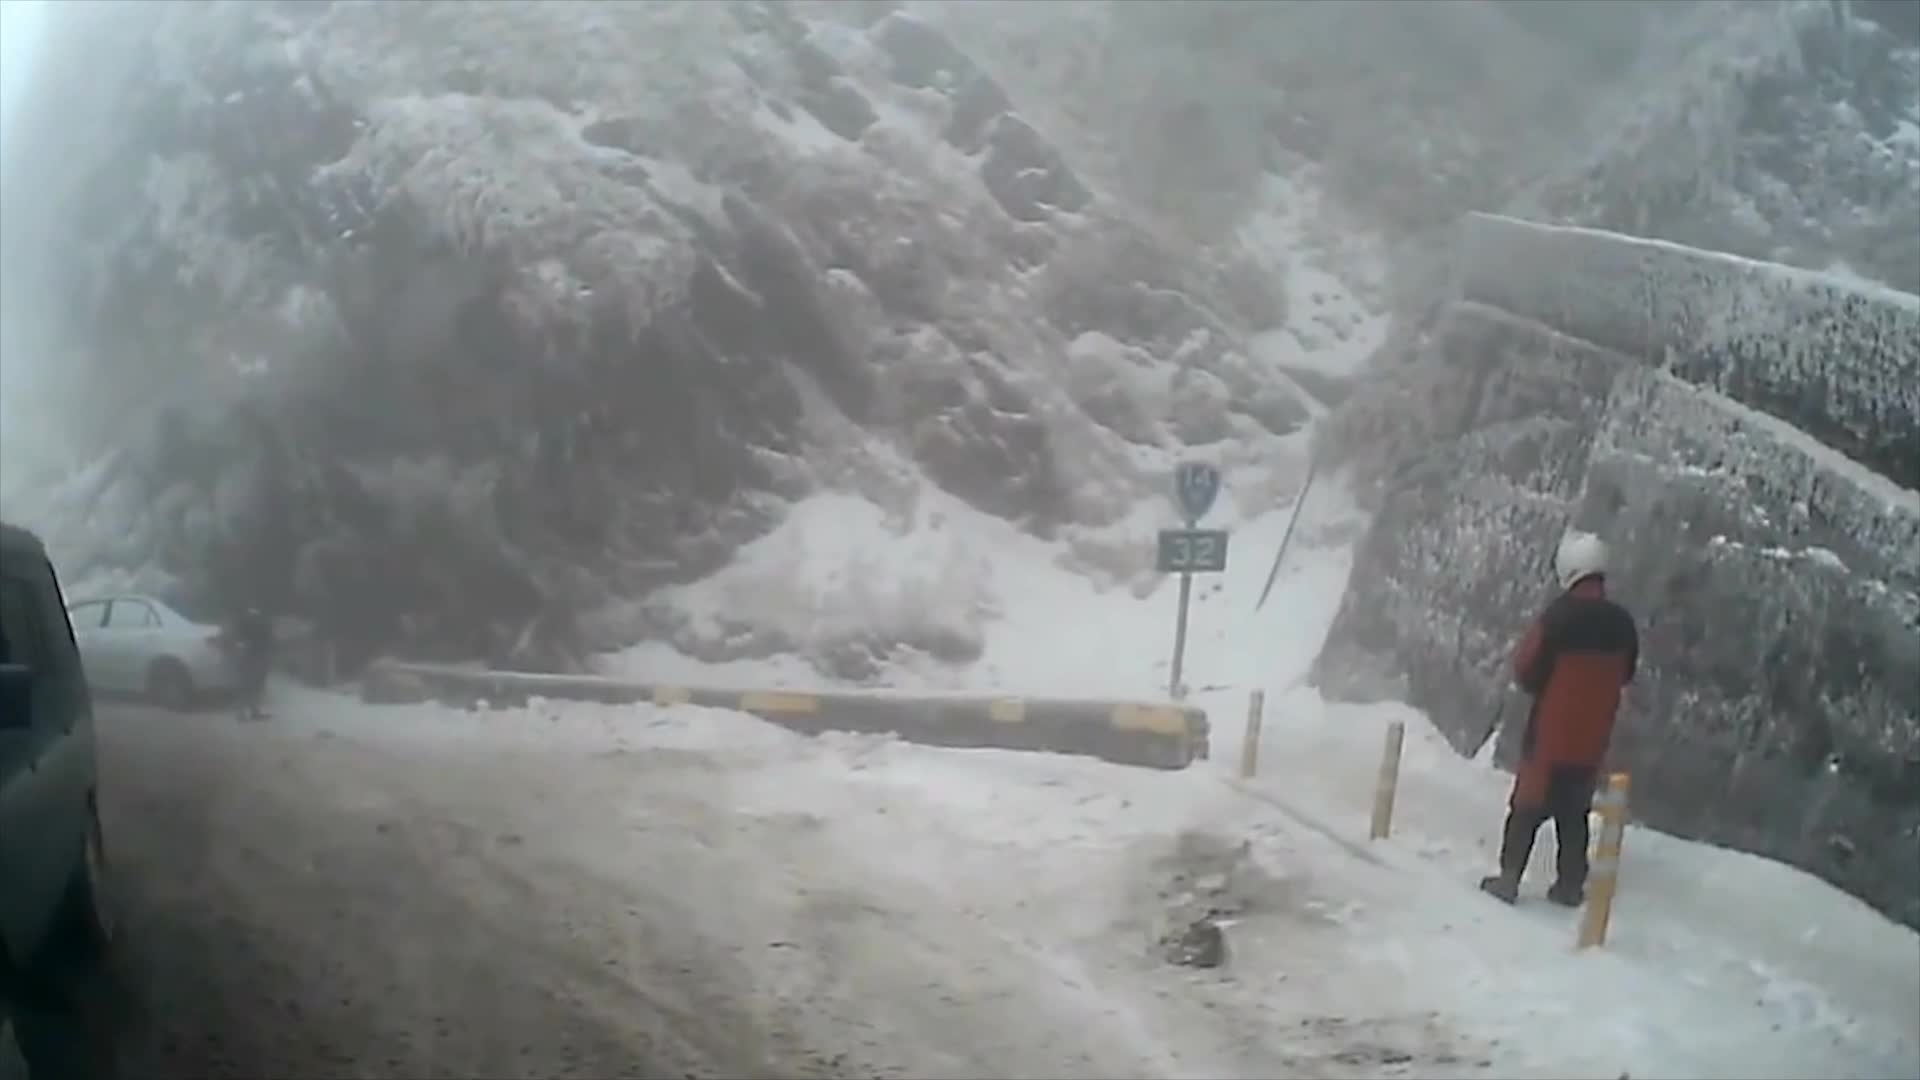pedestrian: (1488, 534, 1642, 911), (231, 594, 281, 724)
vehicle: (0, 522, 114, 1069), (0, 591, 234, 713)
